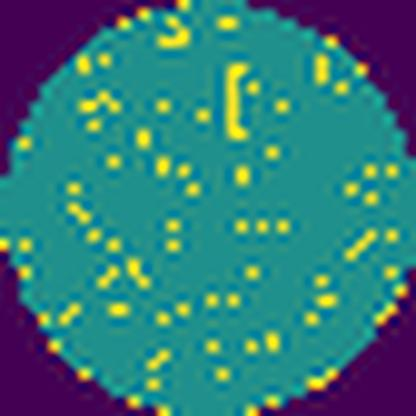Scratch: (221, 57, 255, 145)
